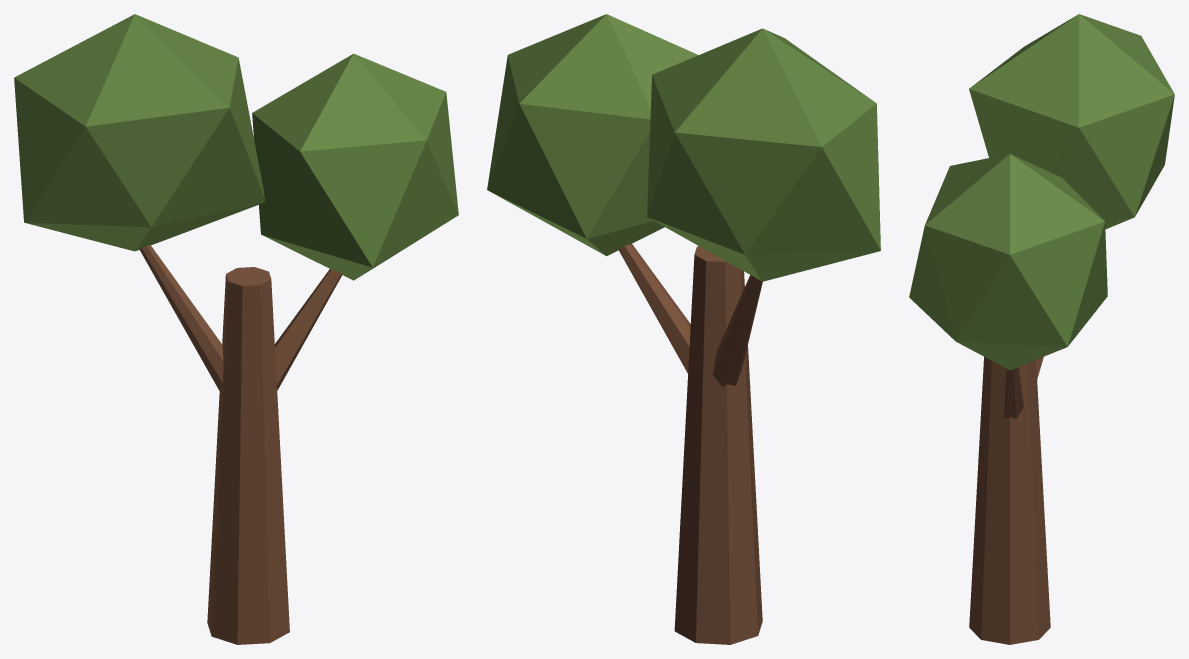
File: tree_small_a.glb
3 views of the same model, side by side, from view 1: azimuth 30°, elevation 25°; view 2: azimuth 150°, elevation 25°; view 3: azimuth 270°, elevation 25° (orthographic). The views are drawn at different scales.
Visible parts, largest first — view 1: tree_small_a; view 2: tree_small_a; view 3: tree_small_a.
Boxes of the visible parts, x1,y1,x2,y2 form: tree_small_a: [14, 14, 458, 644]; tree_small_a: [487, 14, 880, 644]; tree_small_a: [909, 14, 1174, 644].
Bounding box in the file's own units: 2.4 × 3.6 × 1.5.
